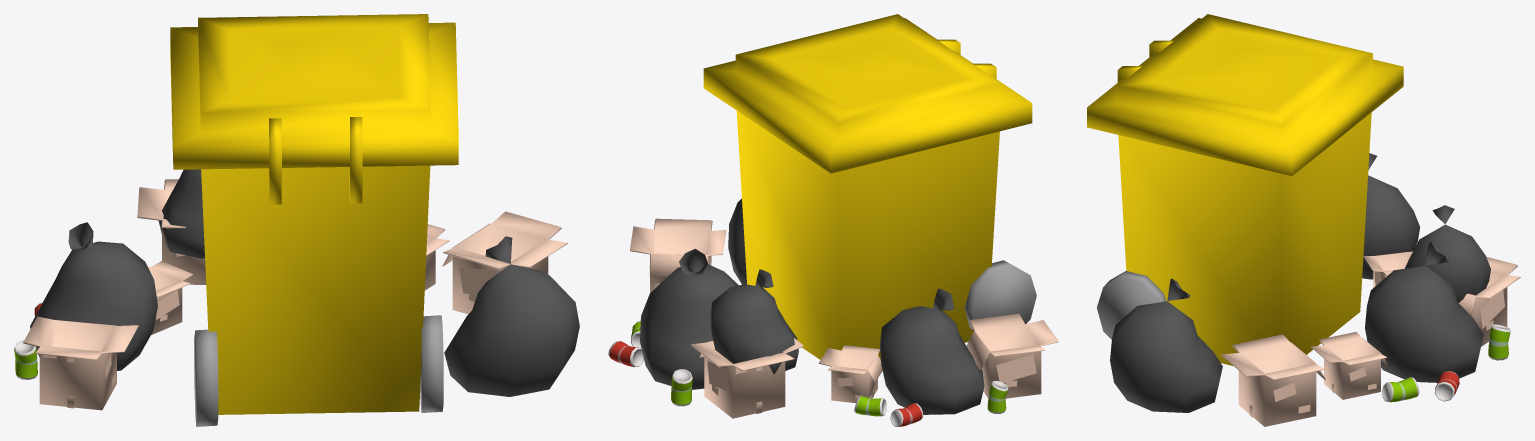
Rendered from tong sampah .fbx.
The picture shows the model from 3 angles, left to right: view 1: azimuth 30°, elevation 25°; view 2: azimuth 150°, elevation 25°; view 3: azimuth 270°, elevation 25°; orthographic projection. The views are drawn at different scales.
Visible parts, largest first — view 1: Deco_Box00.013, Deco_Box00, Deco_Box00.015, Deco_Box00.014, Deco_Box00.026, Deco_Box00.003, Deco_Box00.025, Deco_Box00.001; view 2: Deco_Box00.013, Deco_Box00.014, Deco_Box00.015, Deco_Box00.002, Deco_Box00.025, Deco_Box00.001, Deco_Box00.026, Deco_Box00.003, Deco_Box00, Deco_Box00.007; view 3: Deco_Box00.013, Deco_Box00.002, Deco_Box00, Deco_Box00.026, Deco_Box00.001, Deco_Box00.014, Deco_Box00.025, Deco_Box00.003, Deco_Box00.015, Deco_Box00.007, Deco_Box00.010.
Boxes of the visible parts, x1=… form: Deco_Box00.013: x1=170, y1=14, x2=458, y2=414; Deco_Box00: x1=444, y1=236, x2=579, y2=396; Deco_Box00.015: x1=23, y1=261, x2=192, y2=410; Deco_Box00.014: x1=30, y1=222, x2=157, y2=370; Deco_Box00.026: x1=442, y1=211, x2=567, y2=314; Deco_Box00.003: x1=194, y1=315, x2=443, y2=426; Deco_Box00.025: x1=158, y1=169, x2=204, y2=258; Deco_Box00.001: x1=137, y1=179, x2=449, y2=290; Deco_Box00.013: x1=703, y1=14, x2=1032, y2=366; Deco_Box00.014: x1=880, y1=288, x2=984, y2=414; Deco_Box00.015: x1=818, y1=313, x2=1058, y2=403; Deco_Box00.002: x1=640, y1=248, x2=738, y2=389; Deco_Box00.025: x1=710, y1=269, x2=798, y2=374; Deco_Box00.001: x1=654, y1=283, x2=803, y2=418; Deco_Box00.026: x1=630, y1=218, x2=726, y2=292; Deco_Box00.003: x1=964, y1=260, x2=1036, y2=329; Deco_Box00: x1=728, y1=198, x2=746, y2=284; Deco_Box00.007: x1=671, y1=377, x2=692, y2=404; Deco_Box00.013: x1=1087, y1=14, x2=1403, y2=365; Deco_Box00.002: x1=1365, y1=241, x2=1483, y2=382; Deco_Box00: x1=1110, y1=278, x2=1222, y2=412; Deco_Box00.026: x1=1221, y1=334, x2=1325, y2=426; Deco_Box00.001: x1=1311, y1=257, x2=1520, y2=399; Deco_Box00.014: x1=1362, y1=153, x2=1420, y2=279; Deco_Box00.025: x1=1405, y1=205, x2=1490, y2=302; Deco_Box00.003: x1=1097, y1=271, x2=1165, y2=339; Deco_Box00.015: x1=1363, y1=251, x2=1412, y2=287; Deco_Box00.007: x1=1488, y1=327, x2=1510, y2=358; Deco_Box00.010: x1=1388, y1=377, x2=1417, y2=402.
Size of the model in its own units: 206 by 126 by 178.
